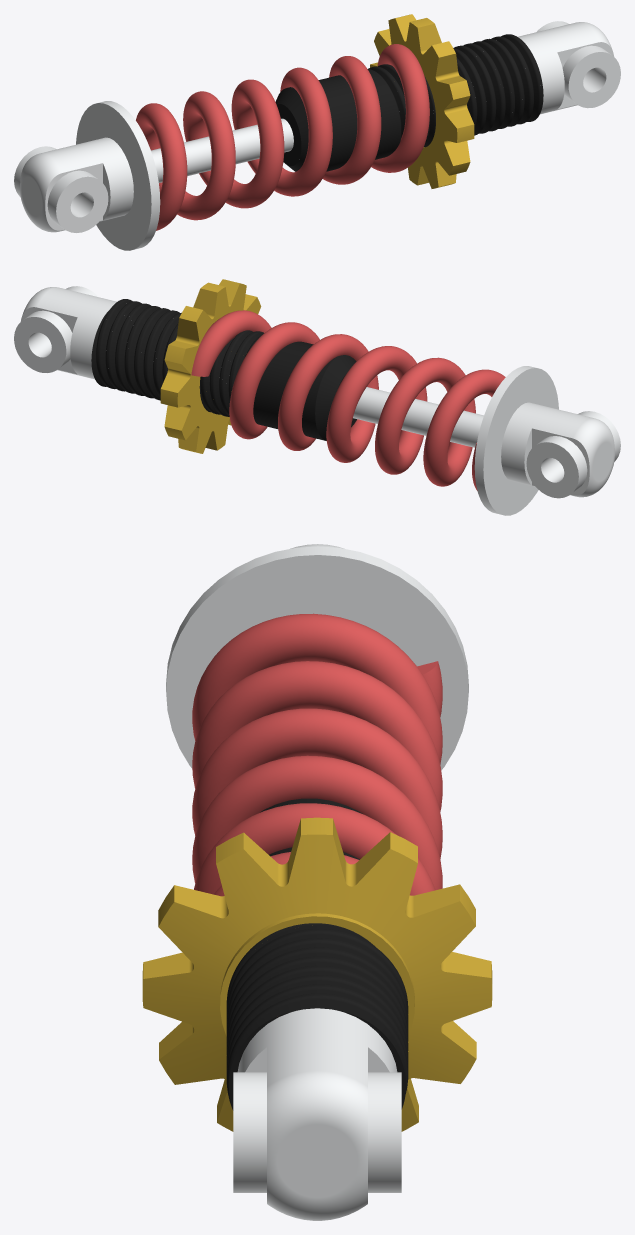
Rendered from shocker.glb.
3 renders of one model, top to bottom at view 1: azimuth 30°, elevation 25°; view 2: azimuth 150°, elevation 25°; view 3: azimuth 270°, elevation 25°, orthographic. The views are drawn at different scales.
Visible parts, largest first — view 1: spring-1.001, top-rod-1.001, shock-absorber-1.001, nut-1.001; view 2: spring-1.001, top-rod-1.001, shock-absorber-1.001, nut-1.001; view 3: spring-1.001, top-rod-1.001, nut-1.001, shock-absorber-1.001.
Part boxes in pixels (<box>): spring-1.001: <box>136,44,429,230</box>; top-rod-1.001: <box>275,21,620,171</box>; shock-absorber-1.001: <box>14,101,293,250</box>; nut-1.001: <box>370,14,474,188</box>; spring-1.001: <box>191,310,505,490</box>; top-rod-1.001: <box>14,286,356,440</box>; shock-absorber-1.001: <box>353,366,620,515</box>; nut-1.001: <box>160,279,261,453</box>; spring-1.001: <box>192,613,442,896</box>; top-rod-1.001: <box>226,798,408,1220</box>; nut-1.001: <box>142,817,492,1131</box>; shock-absorber-1.001: <box>166,544,468,769</box>.
Bounding box in the file's own units: 0.1959 × 0.052 × 0.052.
